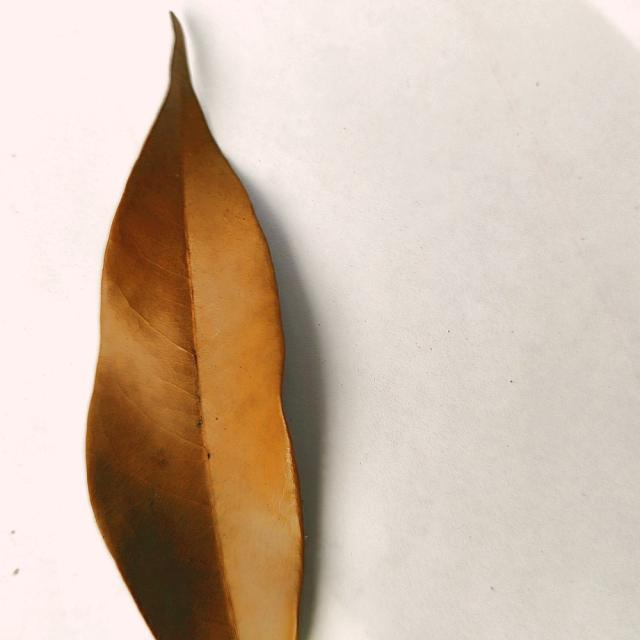Dry_Leaf-Lychee: (85, 20, 305, 639)
